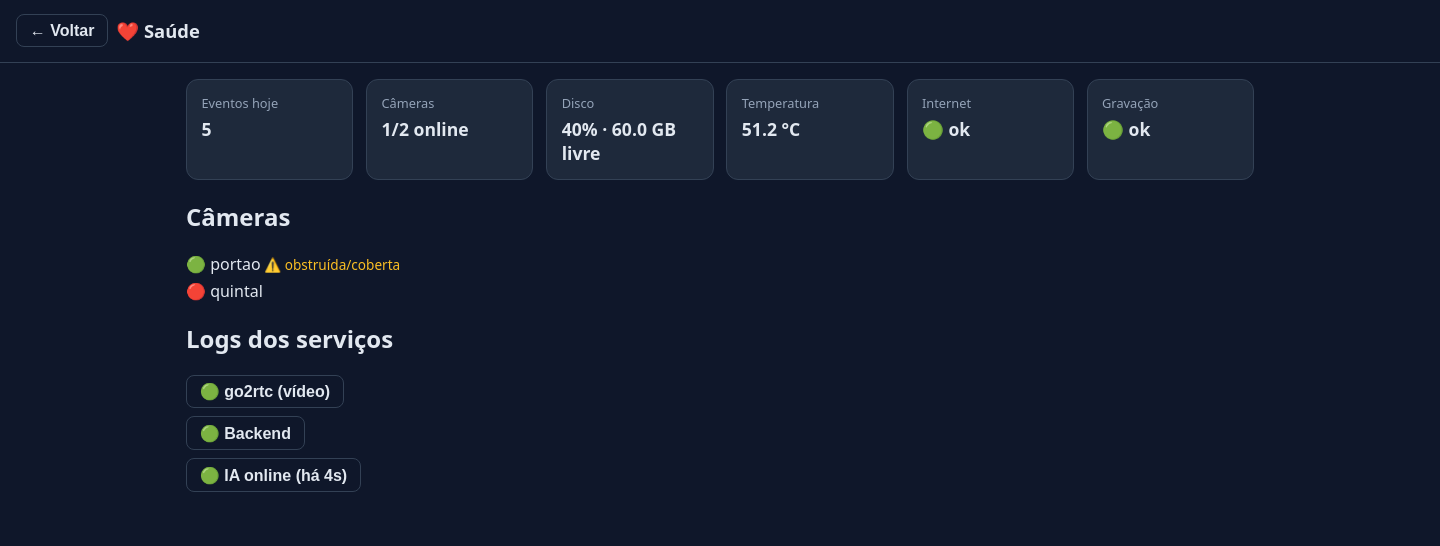
Scenario: Health › shows 'sem linhas' for a service without log lines (IA)
Click the button "🟢 IA online (há 4s)" at (274, 475), box [186, 458, 361, 492]
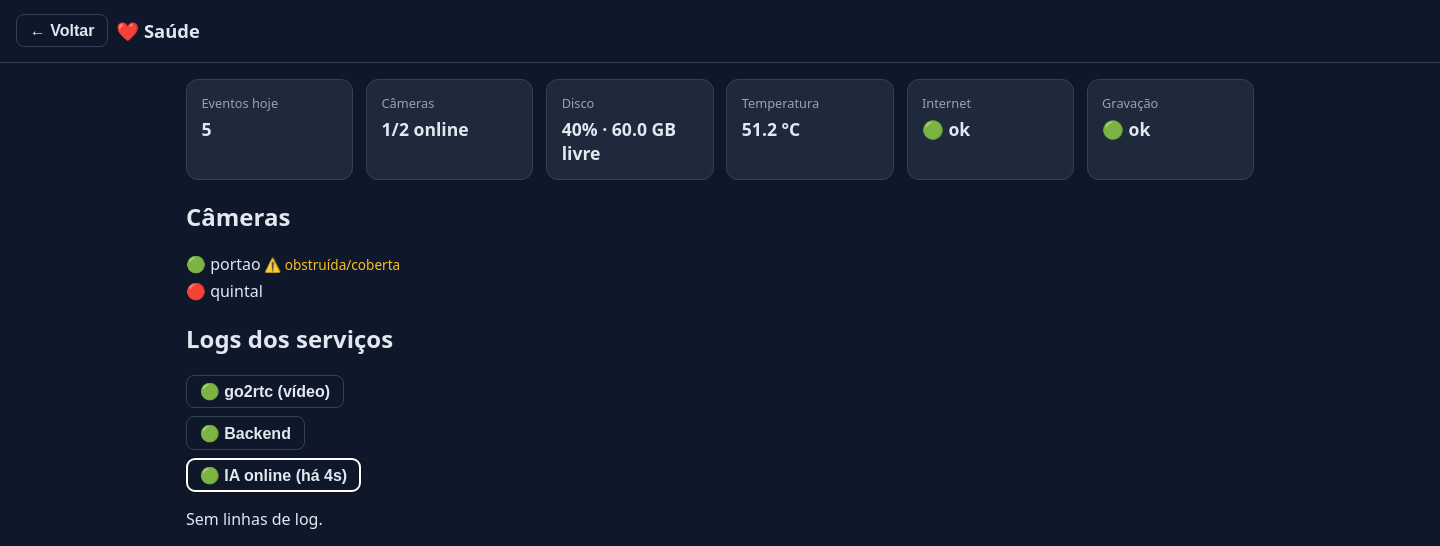
expect the text "Sem linhas de log." is shown: met, box [186, 508, 323, 530]
